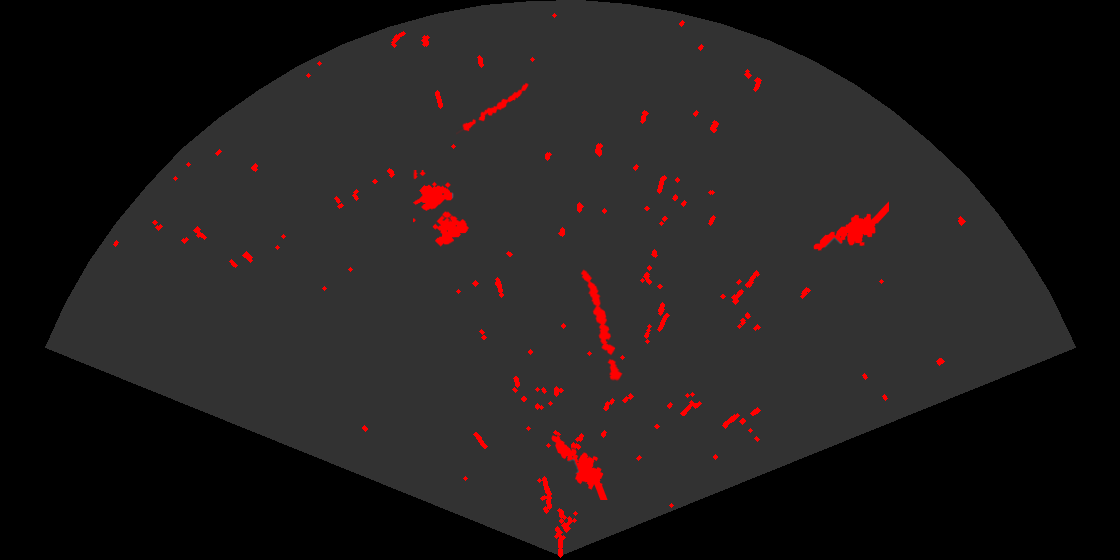cage: (413, 170, 470, 248)
chain: (579, 268, 624, 383), (456, 81, 530, 136)
frogman: (812, 200, 889, 252), (550, 434, 609, 500)
